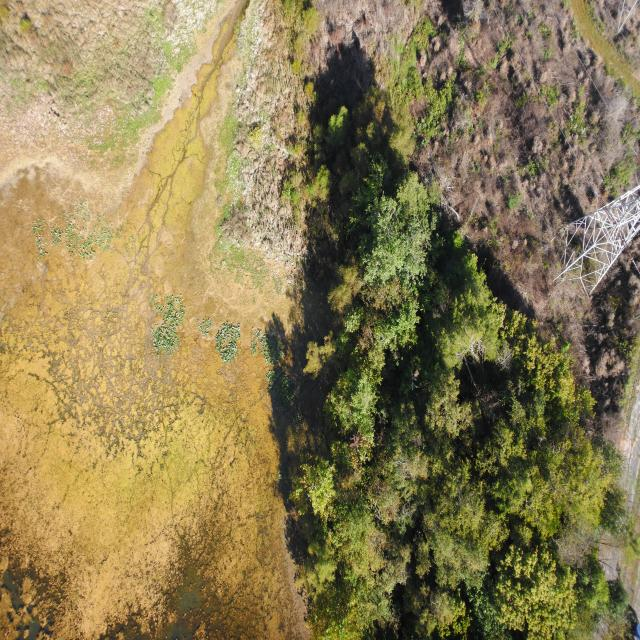Area of Interest: (316, 225, 591, 630)
